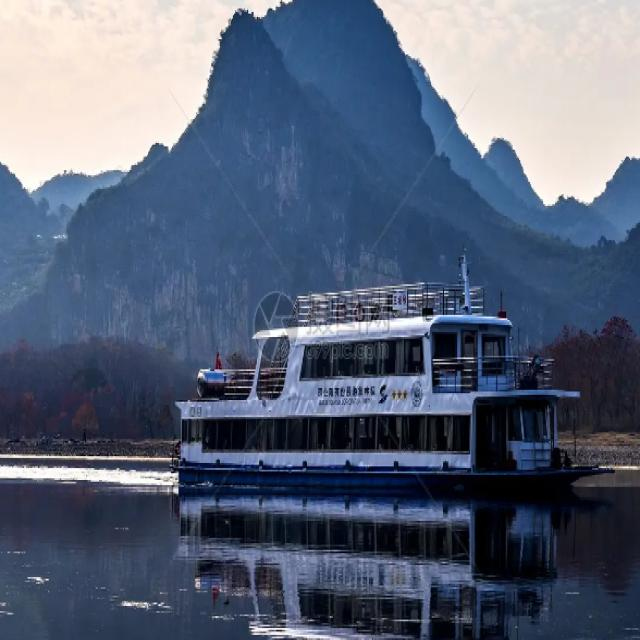houseboat: (174, 270, 589, 495)
